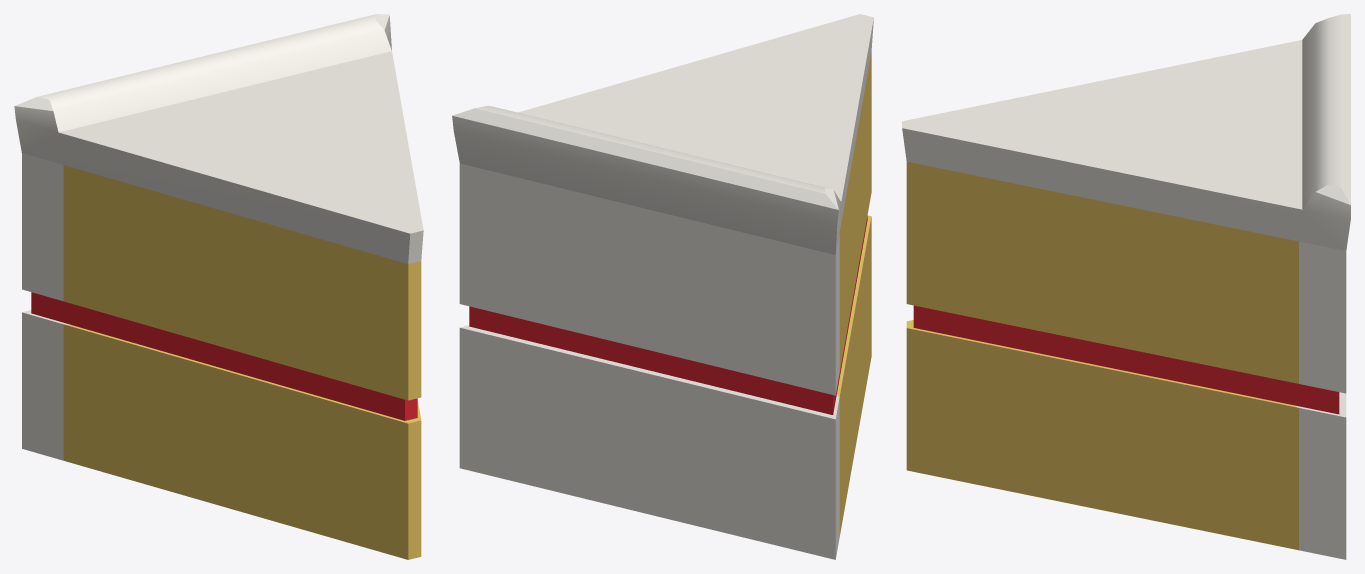
The model's file is cake_1.fbx.
3 views of the same model, side by side, from view 1: azimuth 30°, elevation 25°; view 2: azimuth 150°, elevation 25°; view 3: azimuth 270°, elevation 25° (orthographic). The views are drawn at different scales.
Parts seen in each view (by area): view 1: cake; view 2: cake; view 3: cake.
Part boxes in pixels (x1,y1,x2,y2): cake: (14, 14, 423, 559); cake: (452, 14, 873, 559); cake: (902, 14, 1350, 559).
Size of the model in its own units: 1.03 by 0.9183 by 1.02.
